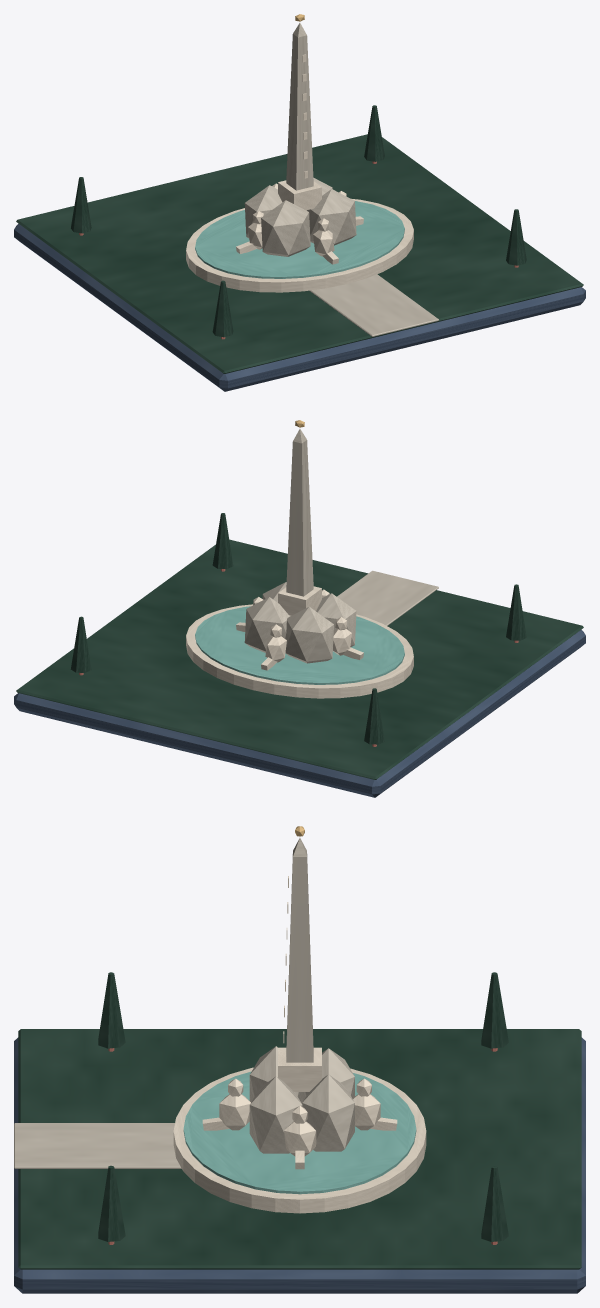
Rendered from piazza-navona-diorama.glb.
The picture shows the model from 3 angles, top to bottom: view 1: azimuth 30°, elevation 25°; view 2: azimuth 150°, elevation 25°; view 3: azimuth 270°, elevation 25°; orthographic projection. The views are drawn at different scales.
Parts seen in each view (by area): view 1: piazza-navona; view 2: piazza-navona; view 3: piazza-navona.
Part boxes in pixels (bbox=[...]): piazza-navona: bbox=[14, 14, 585, 391]; piazza-navona: bbox=[14, 420, 585, 797]; piazza-navona: bbox=[14, 826, 585, 1293].
Bounding box in the file's own units: 12 × 8.11 × 12.
1 material, 1 textured.
